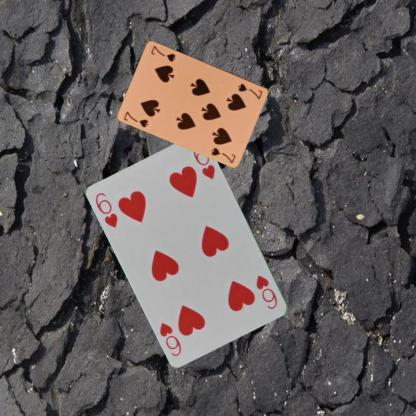6h: (93, 190, 120, 229), (254, 272, 279, 311)
7s: (121, 108, 150, 128), (235, 81, 264, 100)
